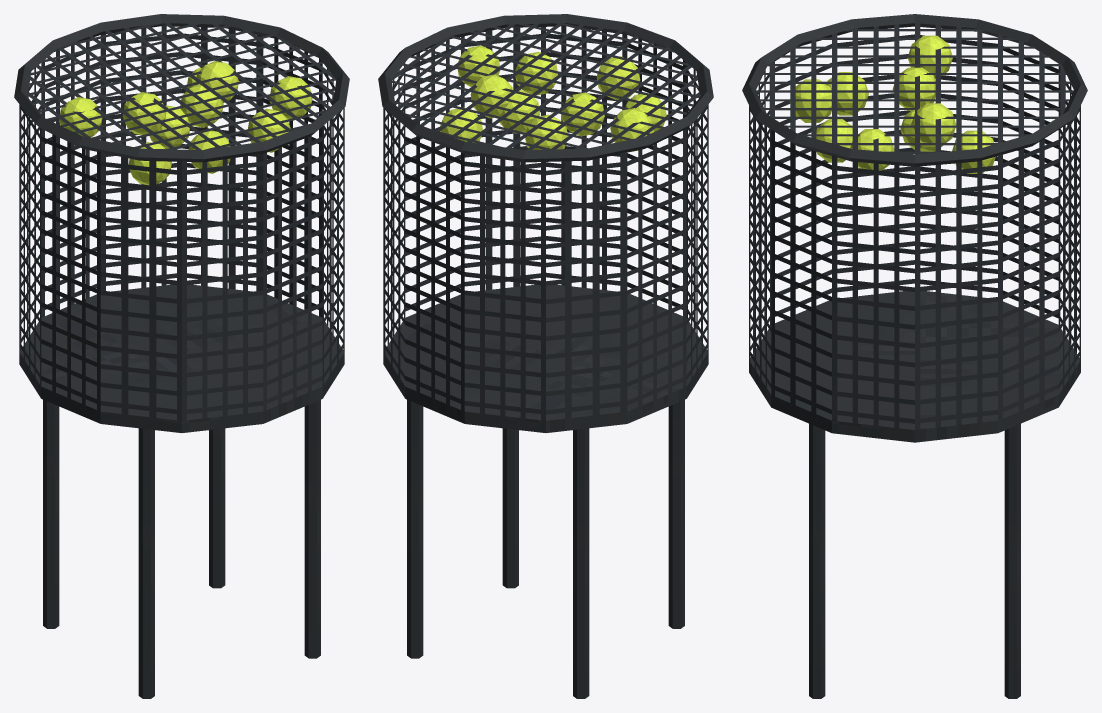
3 views of the same model, side by side, from view 1: azimuth 30°, elevation 25°; view 2: azimuth 150°, elevation 25°; view 3: azimuth 270°, elevation 25° (orthographic). The views are drawn at different scales.
Visible parts, largest first — view 1: Basket_Wall, Basket_Frame, Basket_Balls; view 2: Basket_Wall, Basket_Frame, Basket_Balls; view 3: Basket_Wall, Basket_Frame, Basket_Balls.
Boxes of the visible parts, bbox=[...] form: Basket_Wall: bbox=[19, 23, 344, 427]; Basket_Frame: bbox=[14, 14, 349, 698]; Basket_Balls: bbox=[59, 61, 312, 185]; Basket_Wall: bbox=[383, 23, 708, 432]; Basket_Frame: bbox=[378, 14, 713, 698]; Basket_Balls: bbox=[440, 45, 666, 151]; Basket_Wall: bbox=[749, 23, 1080, 432]; Basket_Frame: bbox=[742, 14, 1087, 698]; Basket_Balls: bbox=[789, 35, 995, 173].
Size of the model in its own units: 0.5 by 0.9129 by 0.5.
3 materials, 3 textured.
